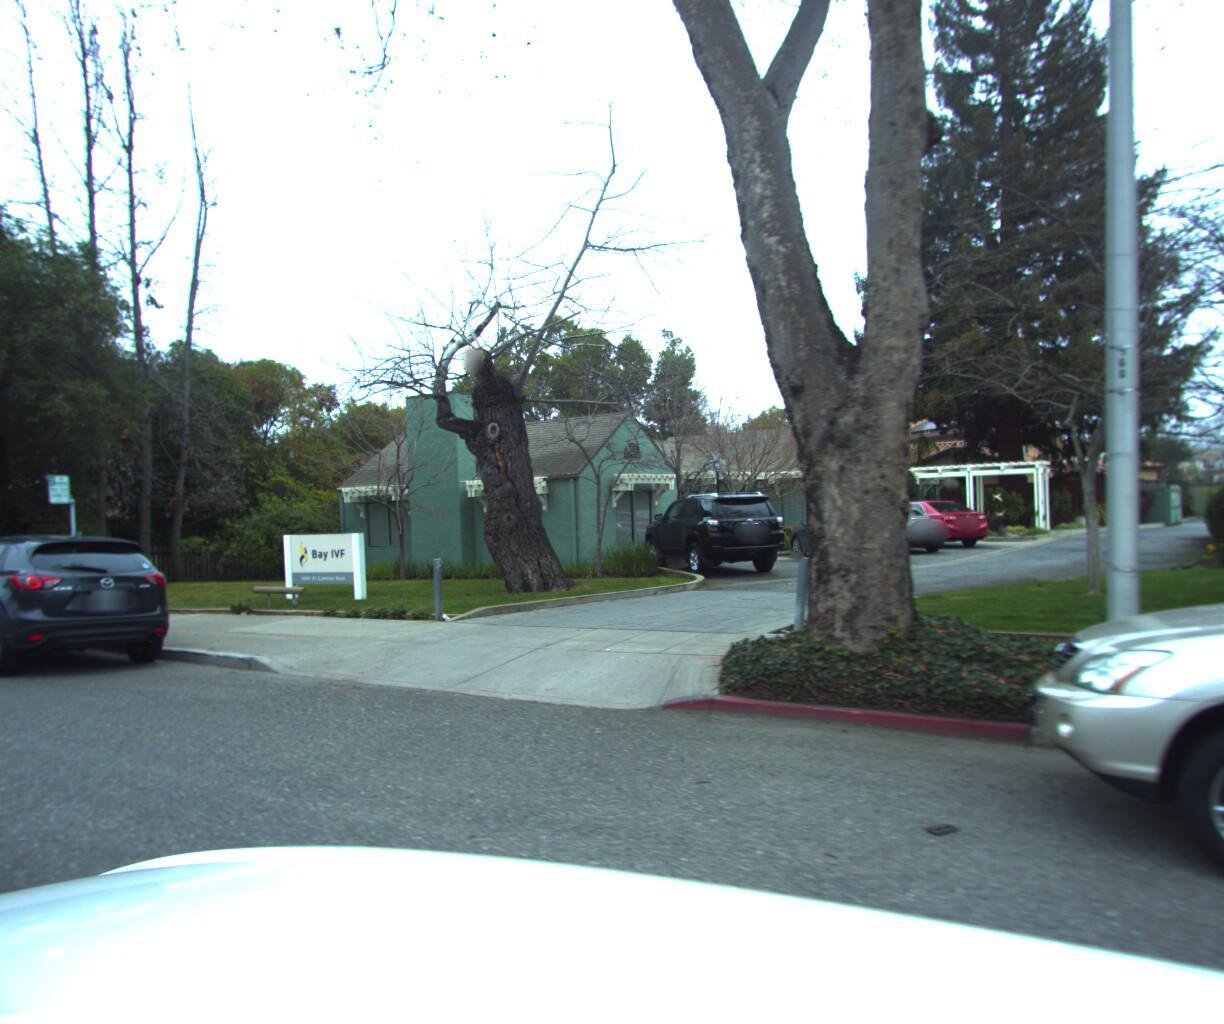car: (987, 434, 1224, 1024), (0, 519, 211, 694), (0, 546, 34, 658)
